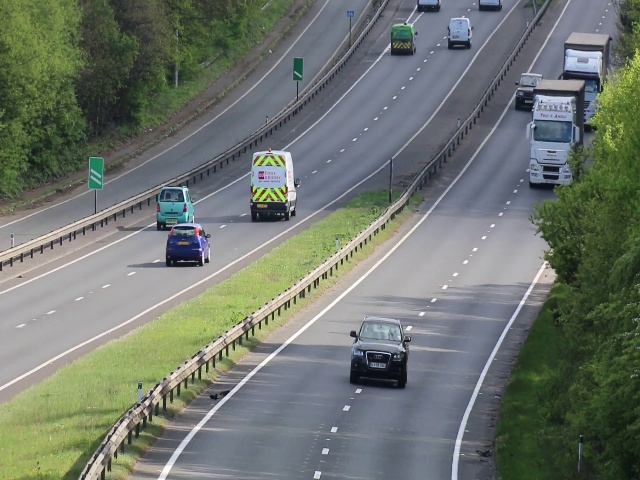car: (351, 314, 407, 390), (530, 99, 569, 190), (252, 152, 300, 219), (167, 223, 210, 267), (154, 183, 195, 228), (391, 21, 415, 56), (448, 17, 473, 48), (515, 72, 534, 110)
